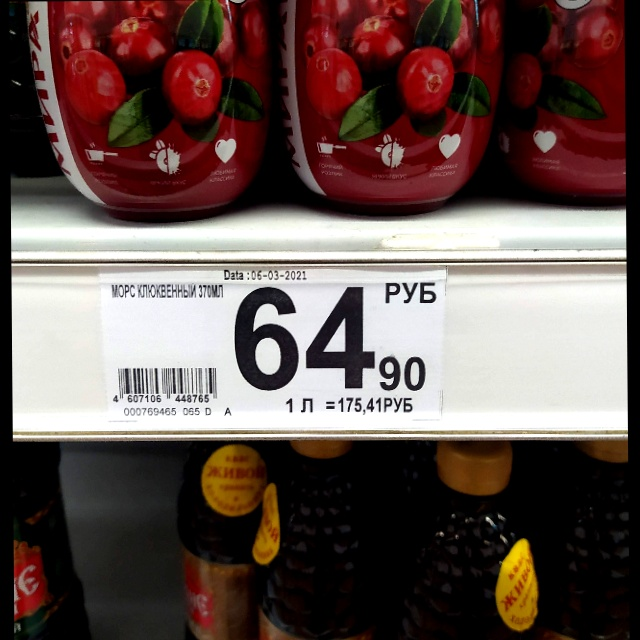barcode: (114, 363, 220, 405)
name: (107, 281, 226, 301)
price: (228, 285, 431, 395)
price_tag: (98, 264, 447, 417)
